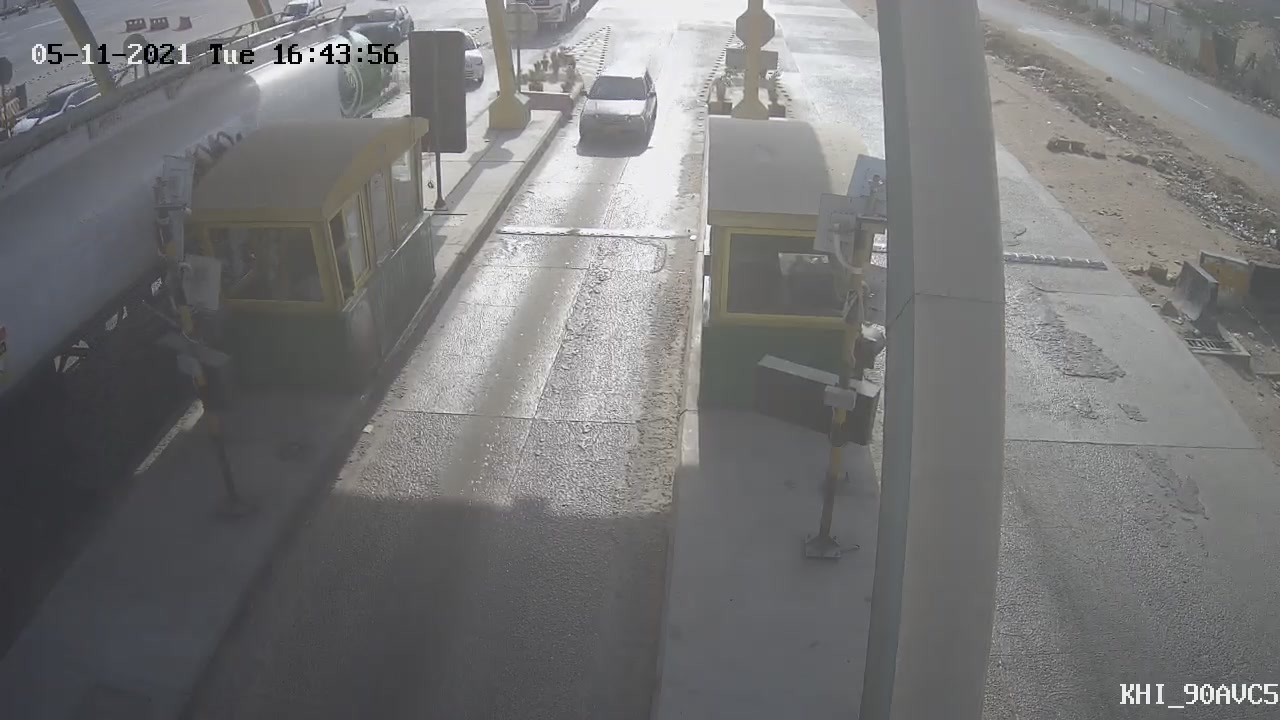F1: (563, 51, 674, 166)
